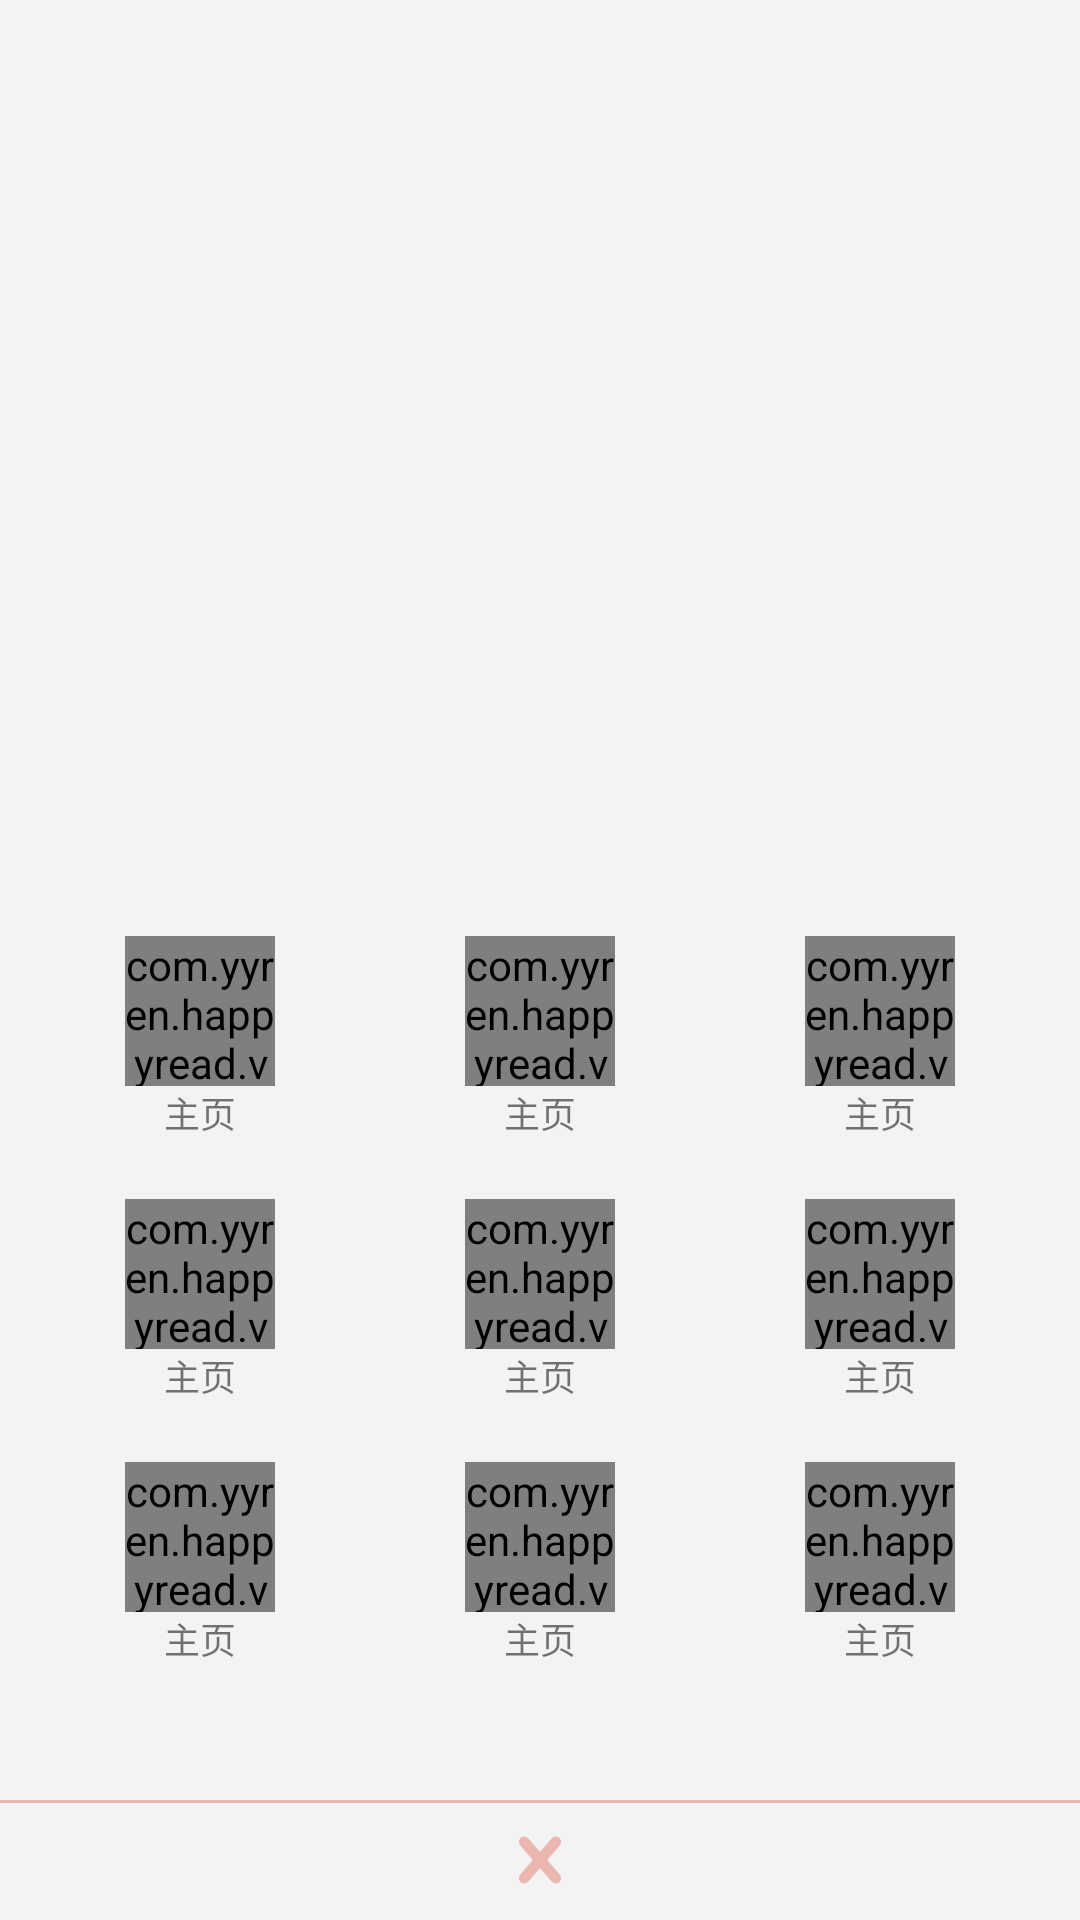

Icons on this 1080px×1920px Android screen, each with its box as (x1=x1, y1=y1, x2=x2, y2=y2):
close trans: (x1=519, y1=1837, x2=561, y2=1883)
